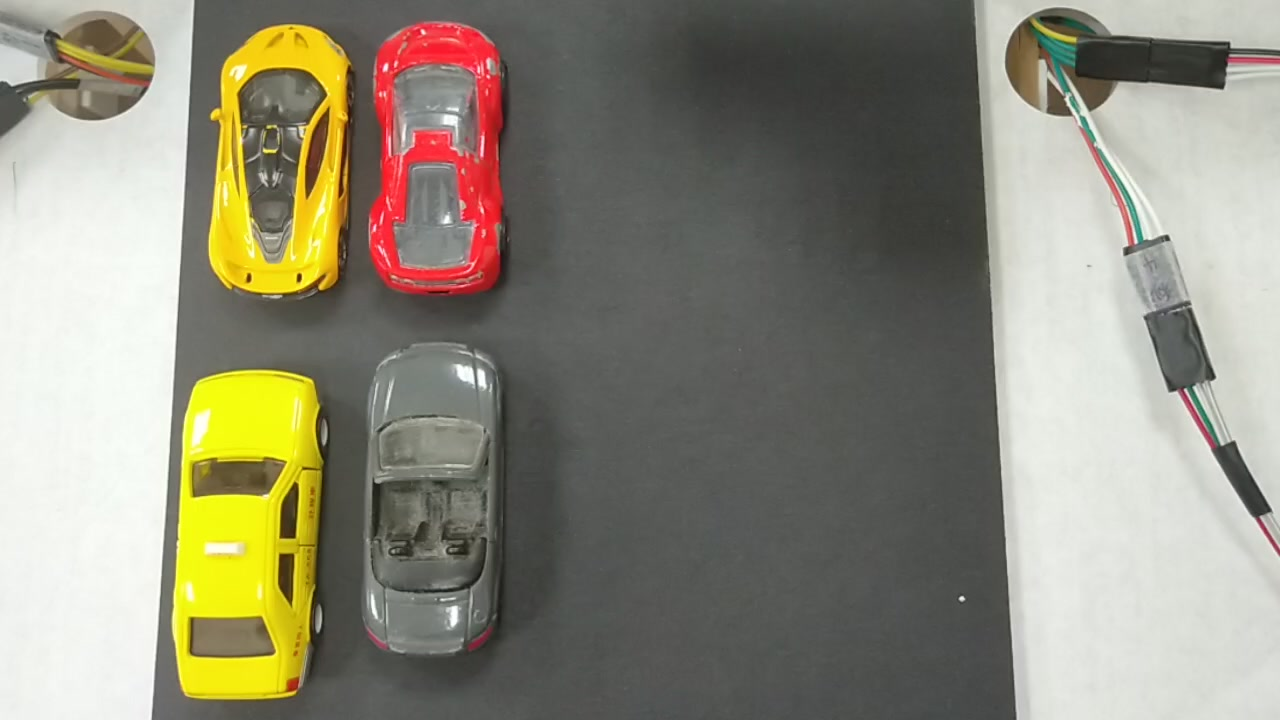car: (174, 371, 322, 703), (361, 349, 509, 655), (212, 24, 350, 293), (376, 22, 502, 285)
